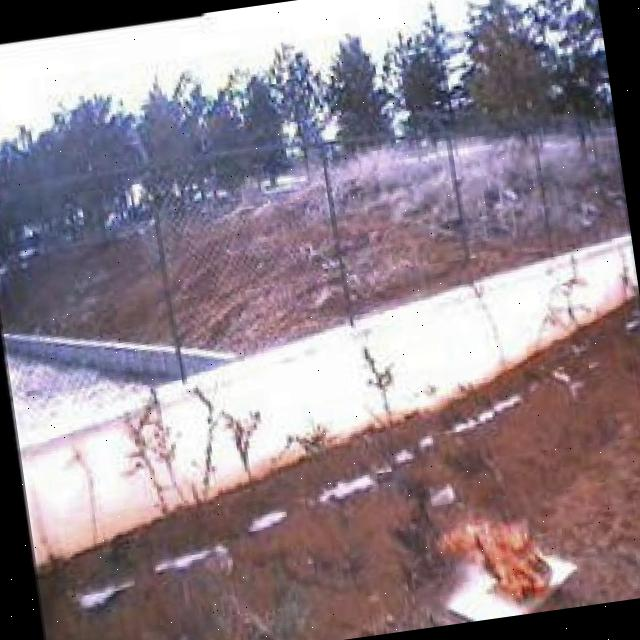fire: (430, 500, 557, 622)
